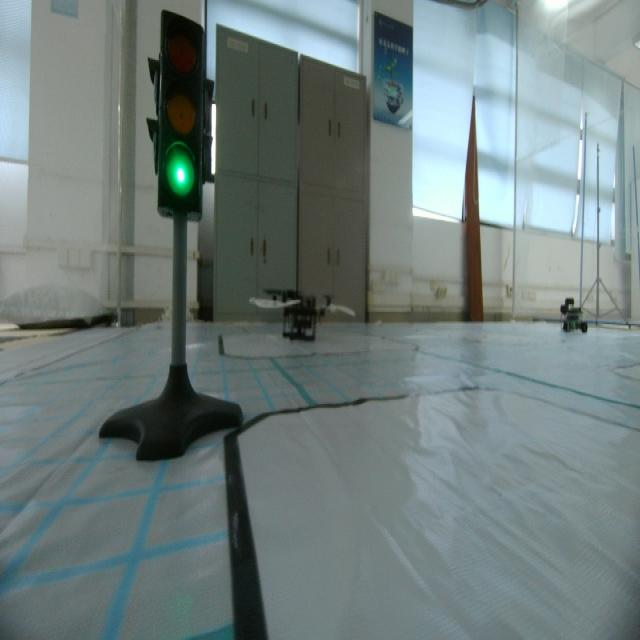green: (153, 9, 211, 224)
